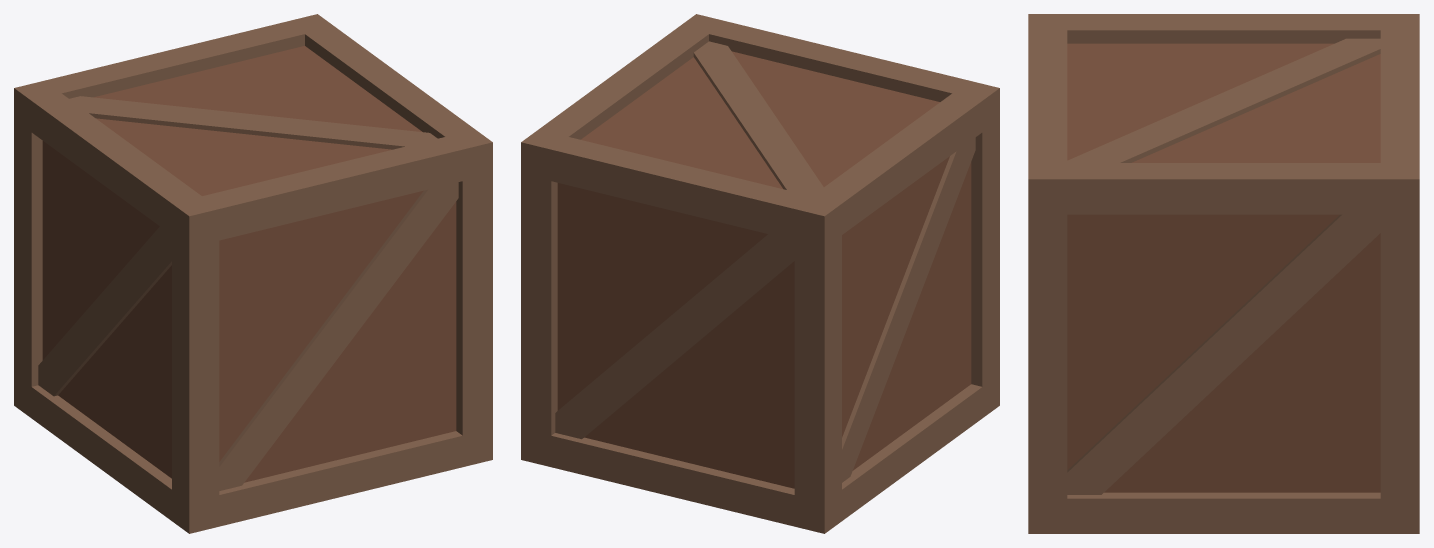
File: PF_Crate_01-convcol.glb
3 views of the same model, side by side, from view 1: azimuth 30°, elevation 25°; view 2: azimuth 150°, elevation 25°; view 3: azimuth 270°, elevation 25° (orthographic). The views are drawn at different scales.
Parts seen in each view (by area): view 1: SM_Crate_01-convcol; view 2: SM_Crate_01-convcol; view 3: SM_Crate_01-convcol.
Boxes of the visible parts, x1,y1,x2,y2 form: SM_Crate_01-convcol: (14,14,492,533); SM_Crate_01-convcol: (521,14,999,533); SM_Crate_01-convcol: (1028,14,1419,533).
Size of the model in its own units: 1 by 1 by 1.
